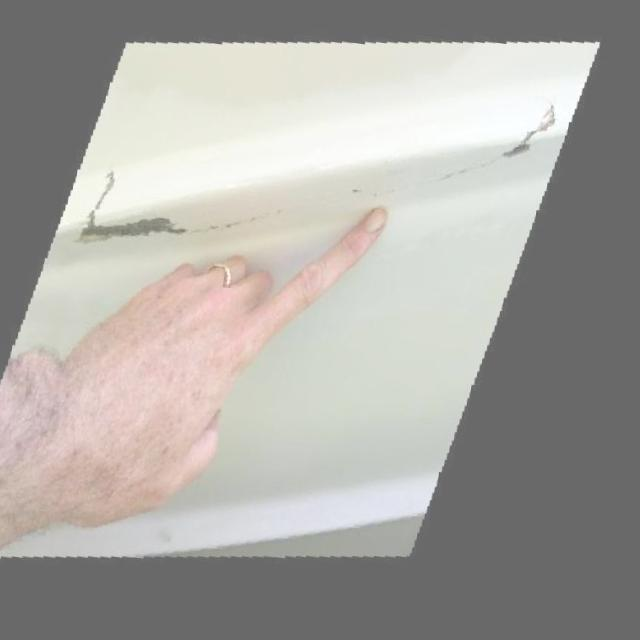crack: (172, 199, 280, 246), (502, 100, 558, 163), (442, 150, 498, 185)
